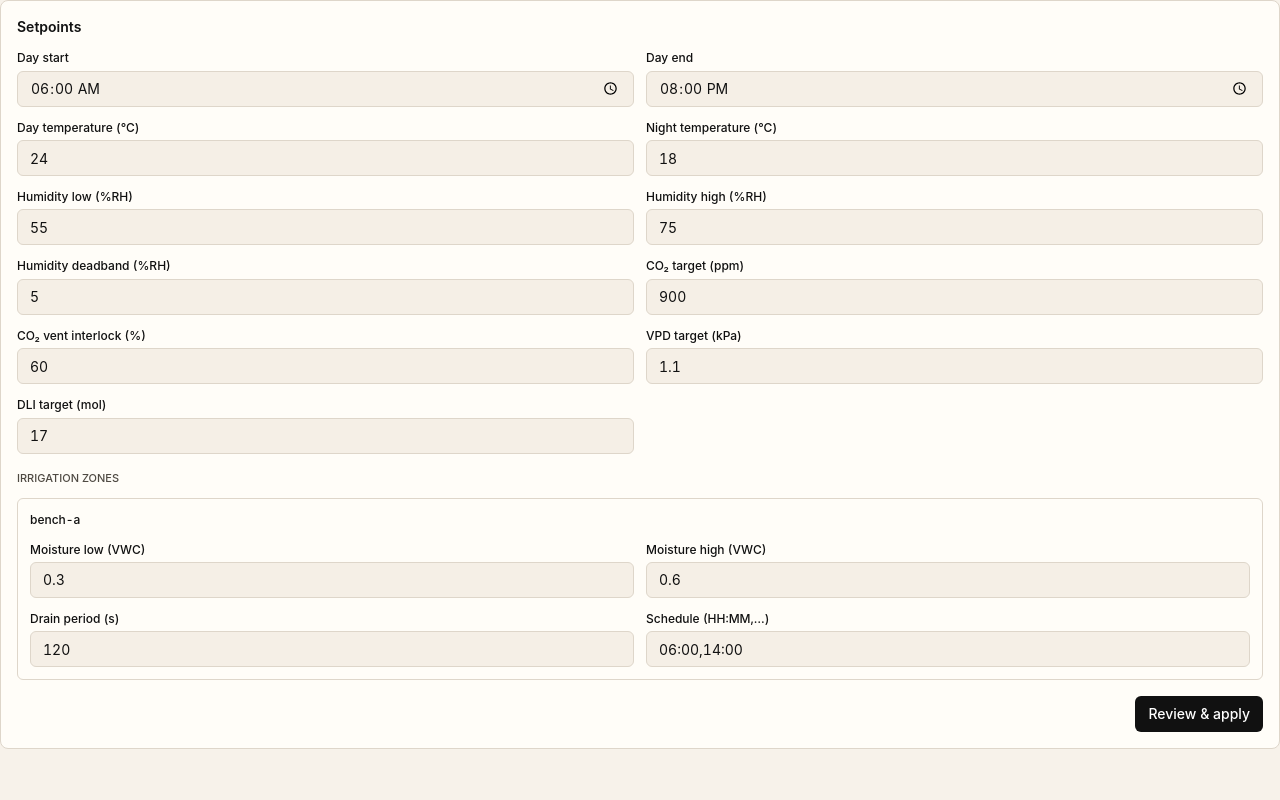
it: SetpointEditForm › opens a confirmation summarizing the change on a valid edit
The image size is (1280, 800).
Step 1. Replace the text in the number field labelled "Day temperature (°C)" with "26" → [326, 158], box [17,140,634,176]
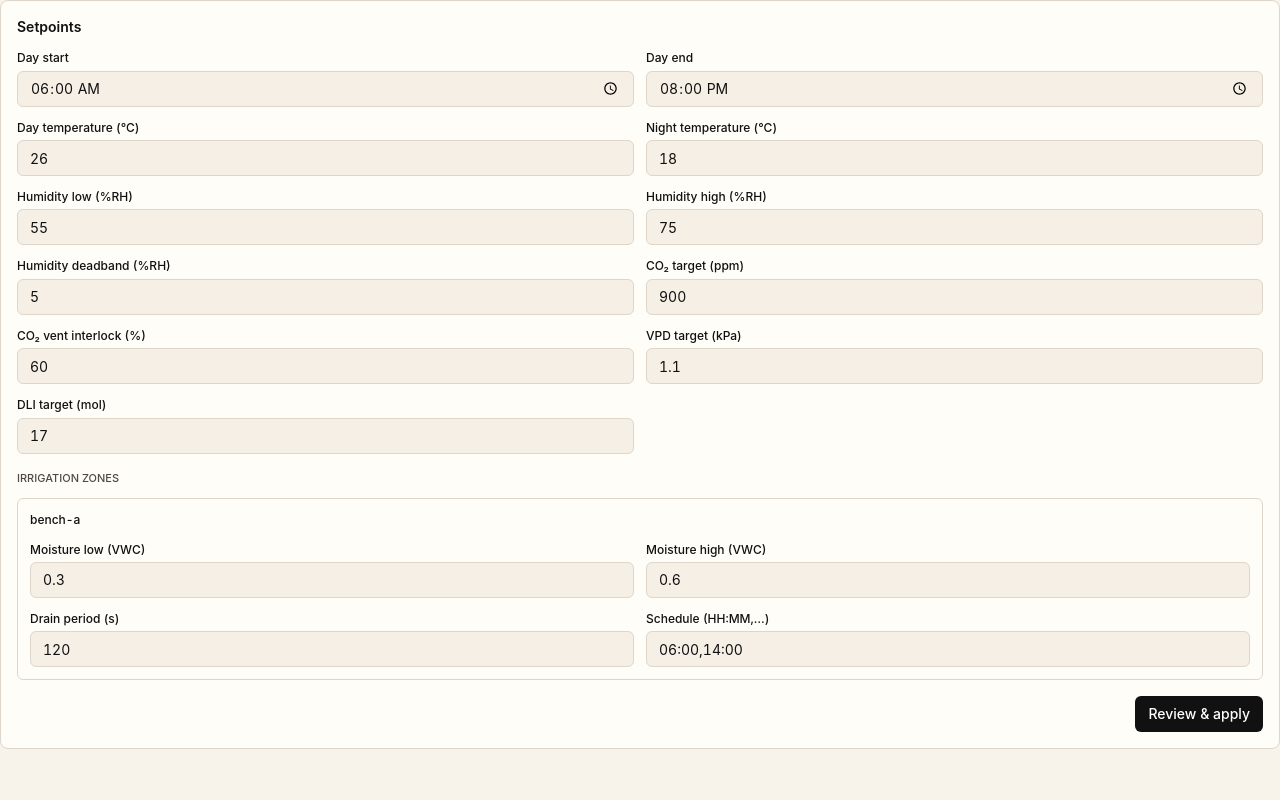
Step 2. Submit the form labelled "Day temperature (°C)"
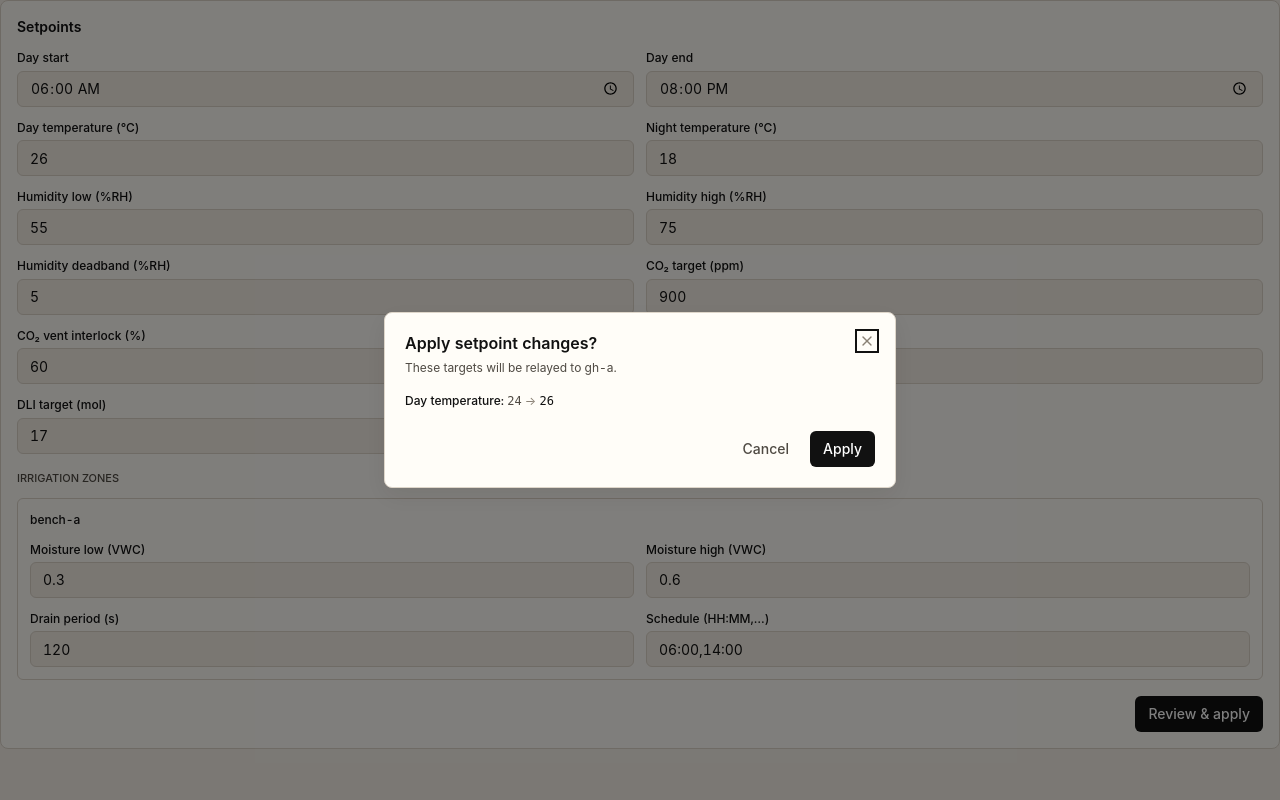
expect the heading "Apply setpoint changes?" is shown: met, box [405,333,617,355]
expect the text "24" is shown: met, box [507,394,522,408]
expect the text "26" is shown: met, box [540,394,554,408]
